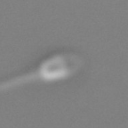normal: (1, 66, 38, 92)
